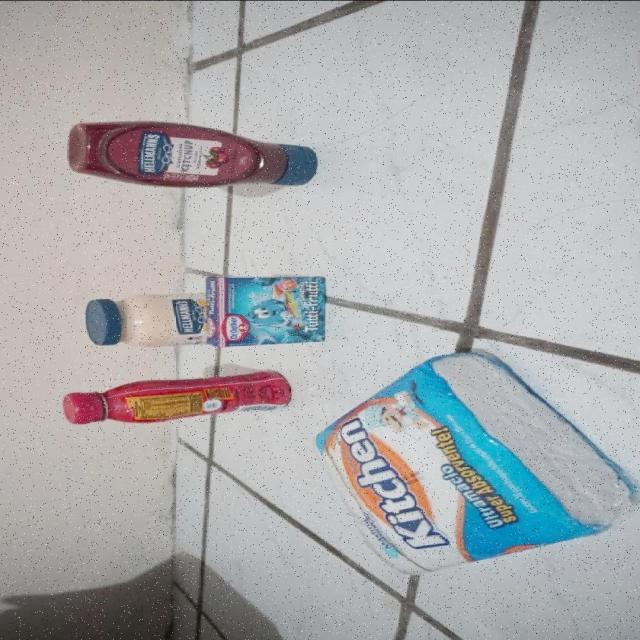ChocolateMilk: (62, 368, 292, 425)
Gelatine: (205, 274, 328, 348)
Ketchup: (69, 120, 317, 188)
Mayonnaise: (86, 291, 210, 345)
Napkin: (310, 349, 636, 574)
